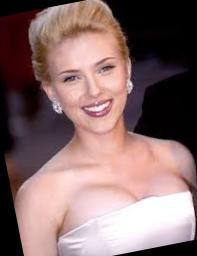Sober: (46, 41, 130, 129)
